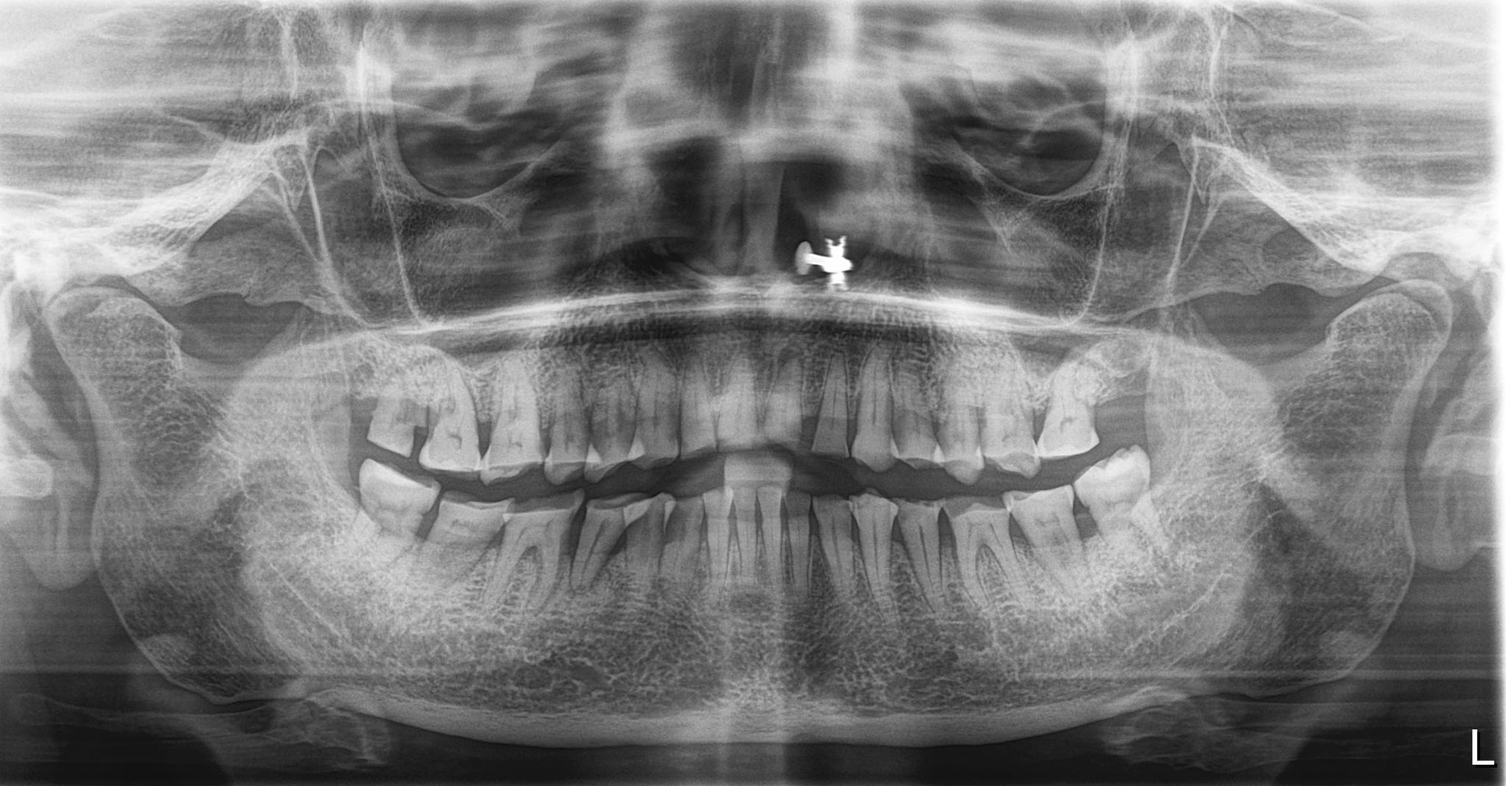Missing Tooth: (327, 354, 376, 450), (1098, 367, 1155, 444)
